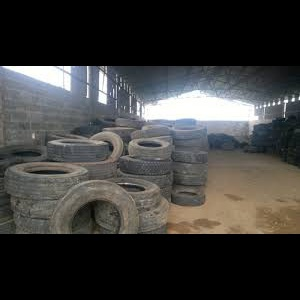tire: (49, 180, 139, 234), (4, 162, 89, 200), (99, 179, 162, 209), (47, 138, 108, 163), (84, 132, 125, 163), (120, 155, 175, 175), (128, 138, 174, 160), (1, 146, 50, 165), (172, 189, 205, 207)
